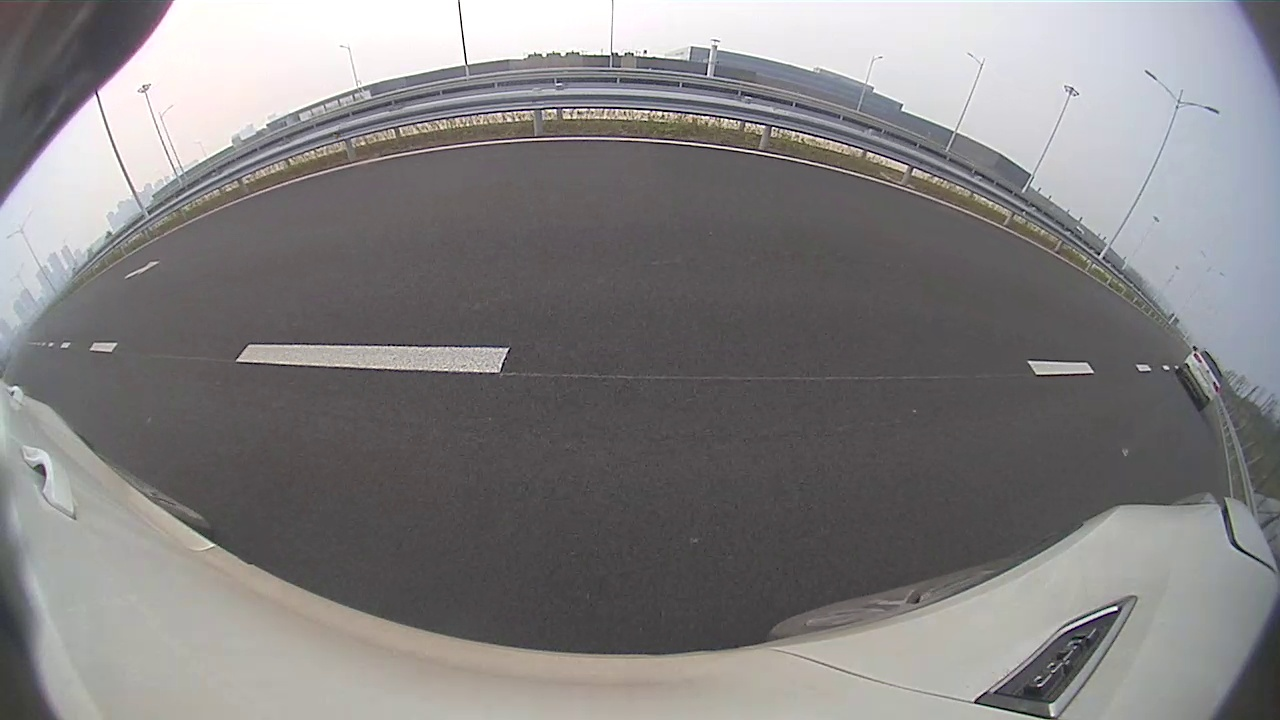car: (1178, 343, 1222, 411)
